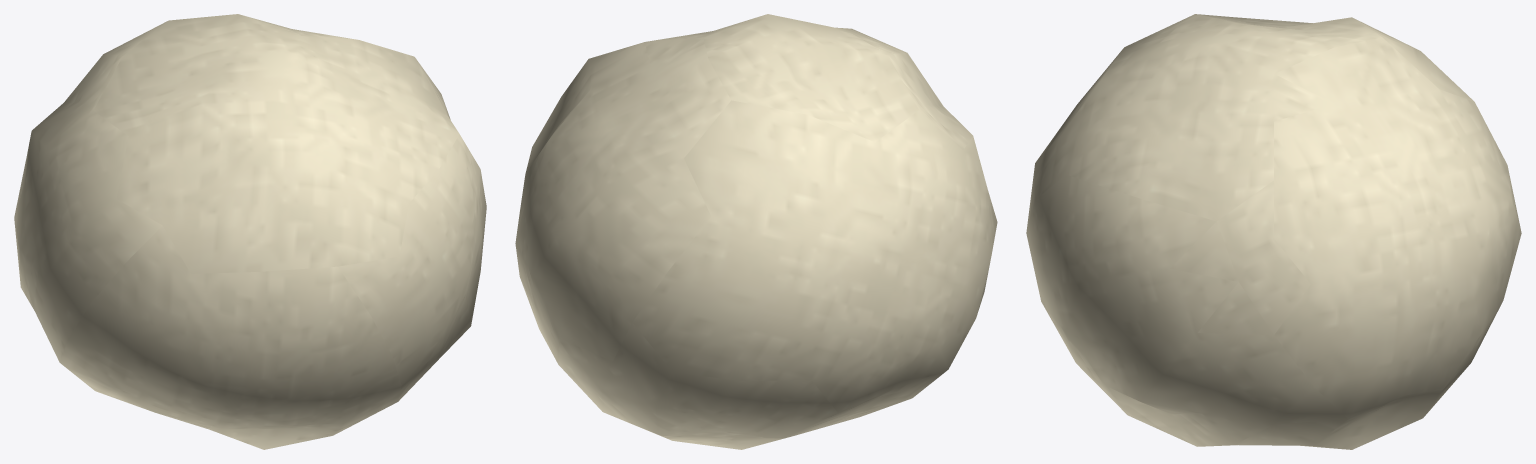
The model's file is giant-rice-ball.glb.
The picture shows the model from 3 angles, left to right: view 1: azimuth 30°, elevation 25°; view 2: azimuth 150°, elevation 25°; view 3: azimuth 270°, elevation 25°; orthographic projection. The views are drawn at different scales.
Parts seen in each view (by area): view 1: sticky_rice_ball; view 2: sticky_rice_ball; view 3: sticky_rice_ball.
Part boxes in pixels (<box>): sticky_rice_ball: <box>14,14,486,449</box>; sticky_rice_ball: <box>515,14,997,449</box>; sticky_rice_ball: <box>1026,14,1521,449</box>.
Size of the model in its own units: 0.6387 by 0.5746 by 0.6499.
1 material, 1 textured.
